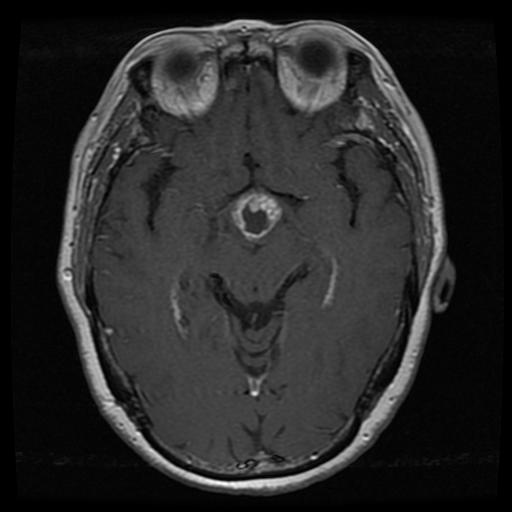Pituirity_tumour: (231, 189, 281, 238)
